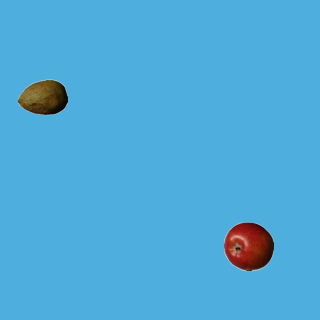Apple Braeburn: (223, 221, 273, 271)
Papaya: (17, 72, 67, 122)
